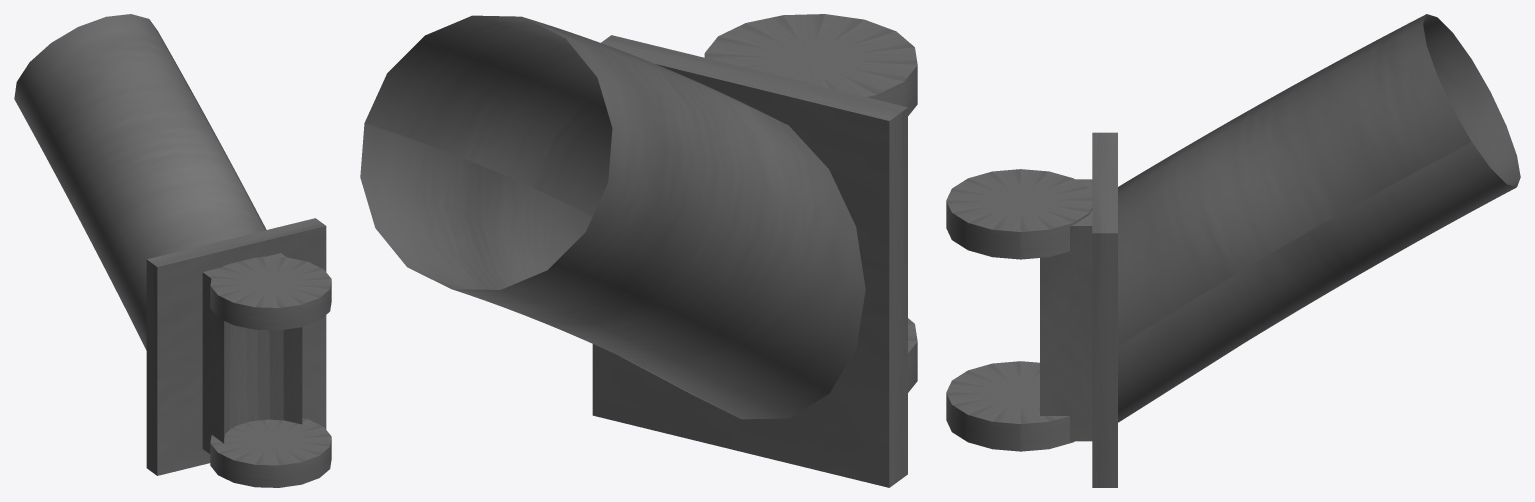
File: mastarmcurve_6x2_c0_ped.obj
3 renders of one model, left to right at view 1: azimuth 30°, elevation 25°; view 2: azimuth 150°, elevation 25°; view 3: azimuth 270°, elevation 25°, orthographic. The views are drawn at different scales.
Visible parts, largest first — view 1: mastarm_6x2_c0_ped; view 2: mastarm_6x2_c0_ped; view 3: mastarm_6x2_c0_ped.
Part boxes in pixels (x1,y1,x2,y2): mastarm_6x2_c0_ped: (14,14,331,487); mastarm_6x2_c0_ped: (360,14,917,487); mastarm_6x2_c0_ped: (946,14,1520,487).
Bounding box in the file's own units: 0.6875 × 1.32 × 1.66.
